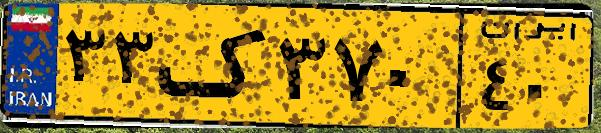0: (385, 28, 445, 110), (525, 38, 570, 115)
3: (270, 28, 330, 110), (57, 26, 110, 100), (110, 28, 158, 98)
4: (475, 38, 525, 113)
7: (330, 28, 385, 110)
ک: (158, 12, 270, 120)
